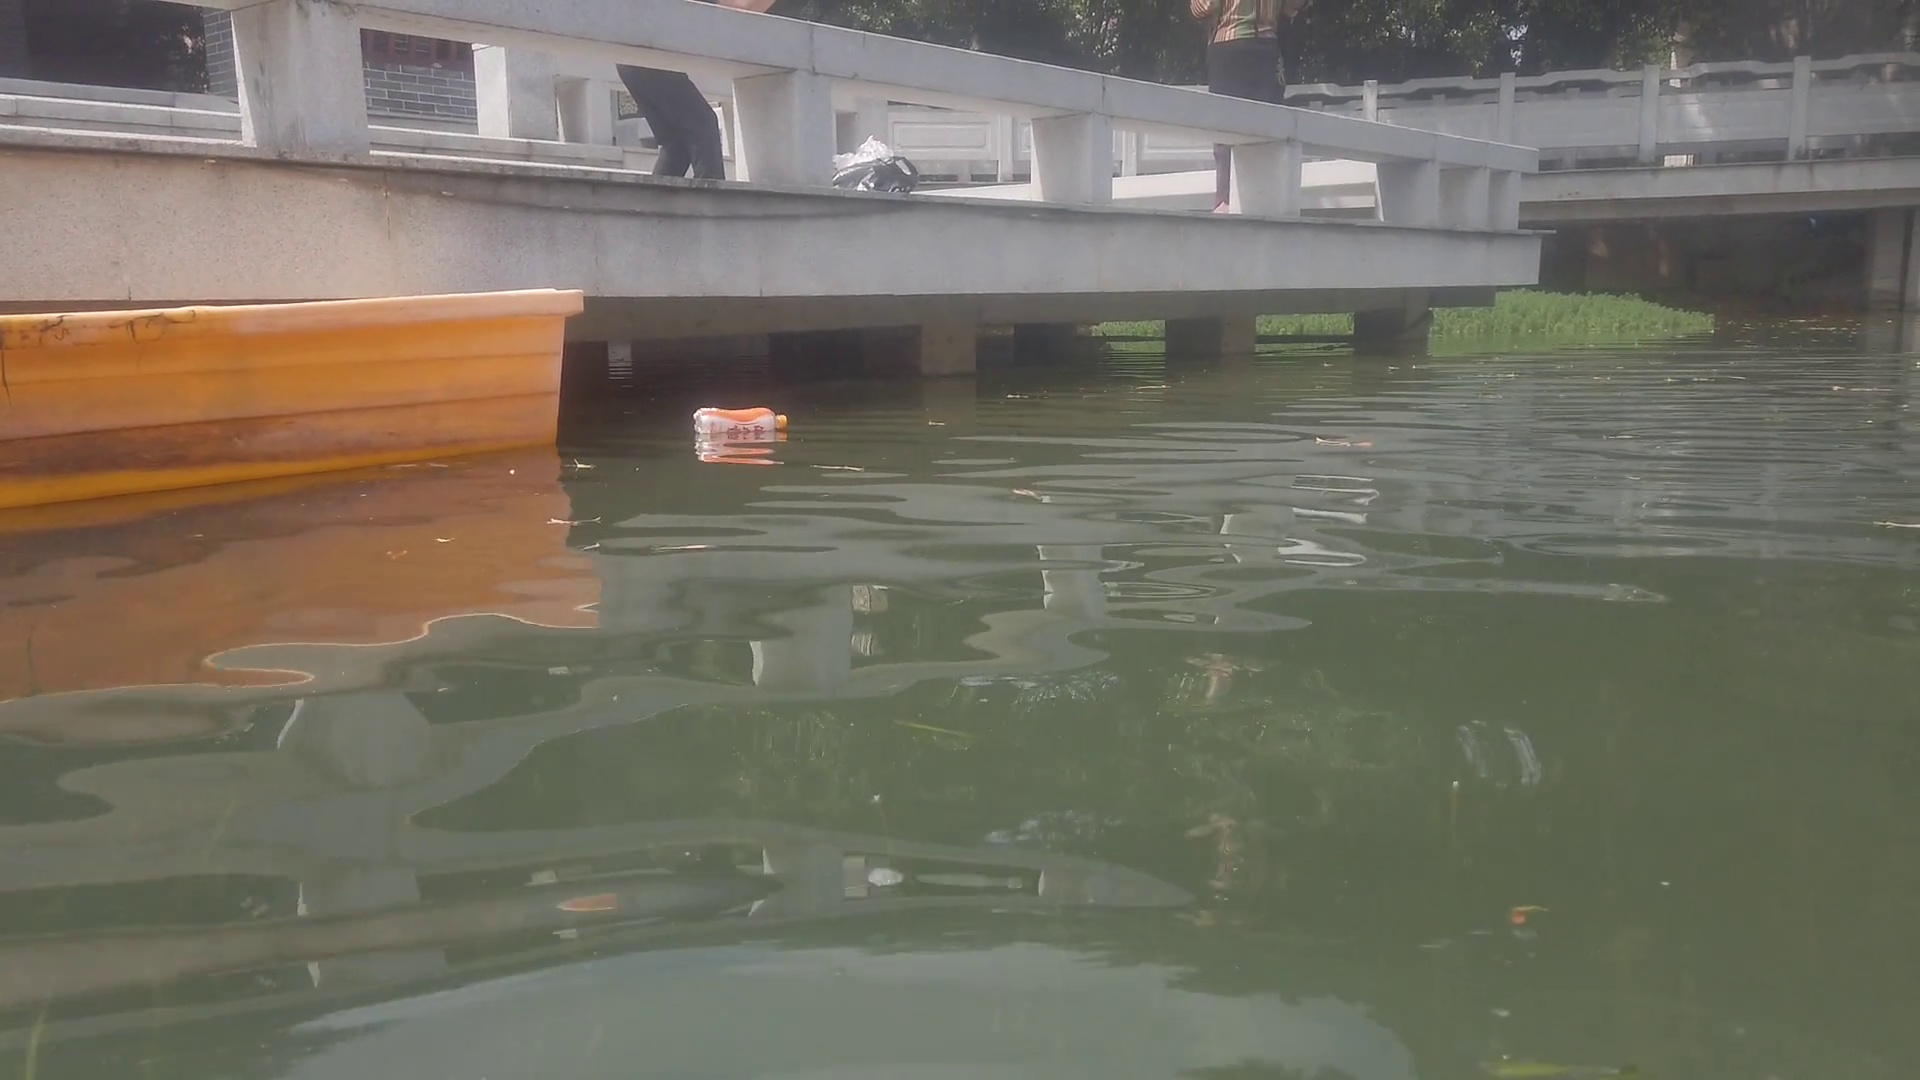bottle: (694, 406, 787, 433)
